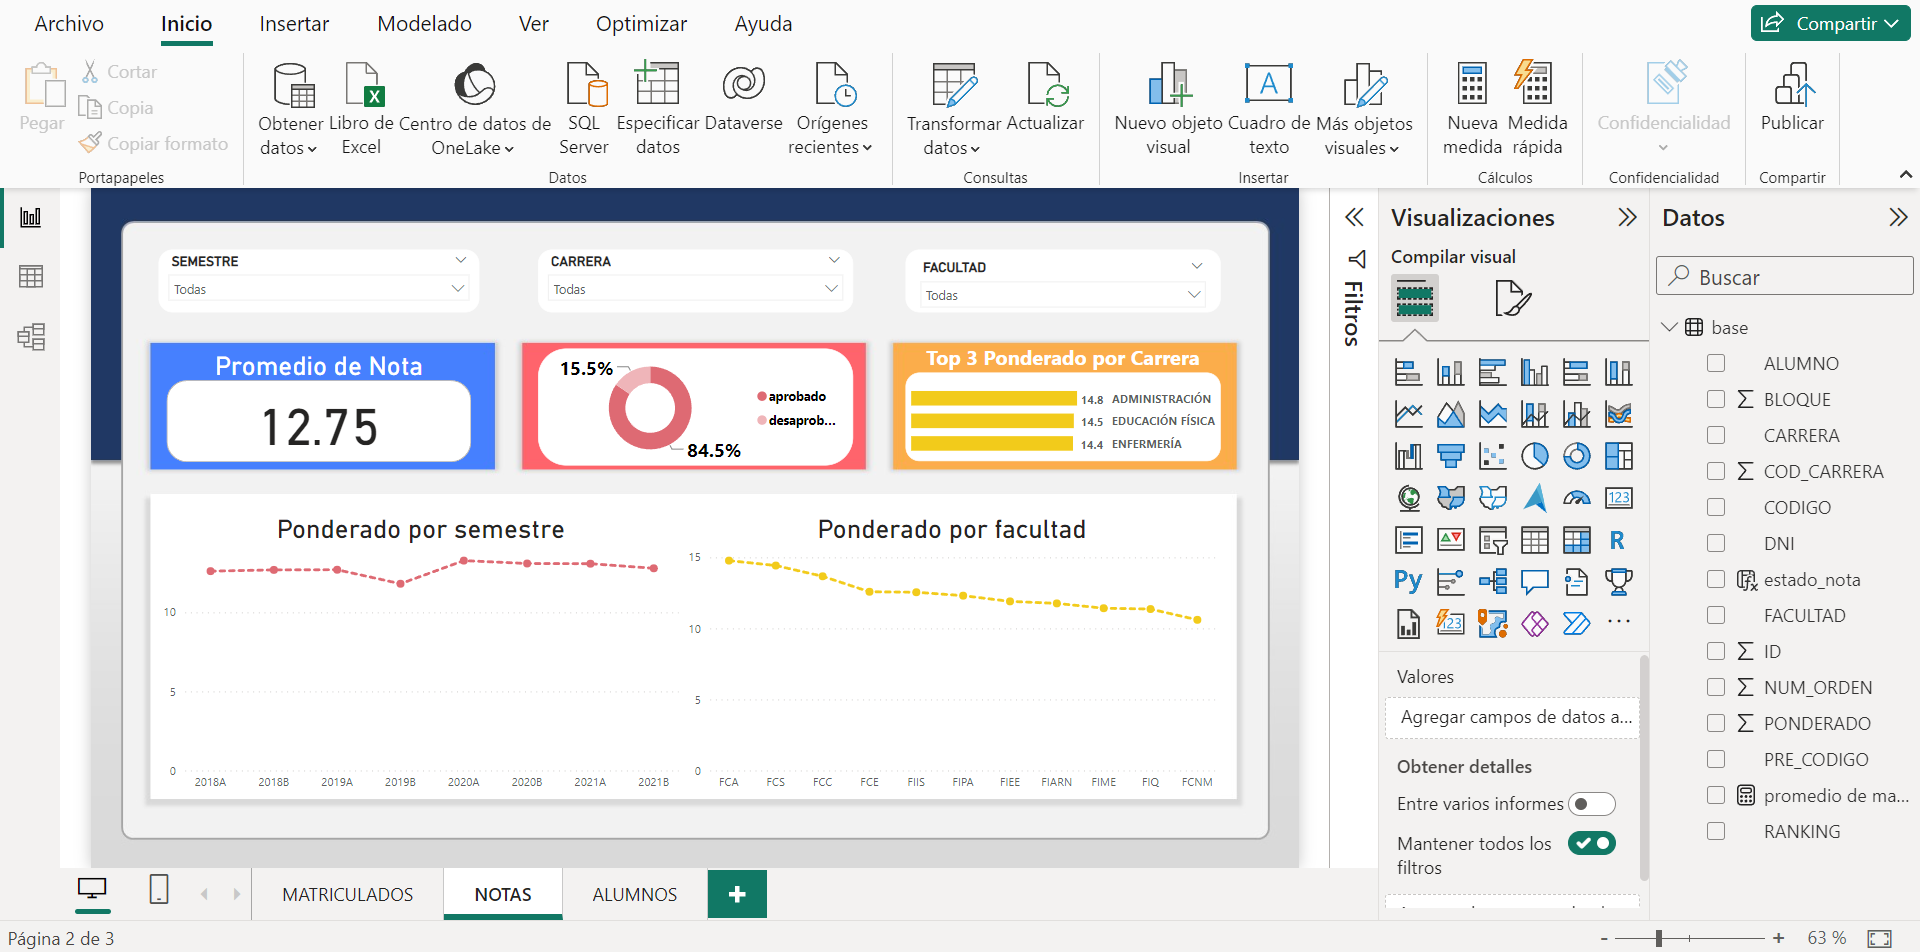

What the dashboard file says about the page in this screenshot:
{"tool":"powerbi","page":{"name":"NOTAS","canvas":[1280,720],"ordinal":1},"visuals":[{"type":"lineChart","title":"Ponderado por facultad","fields":{"Category":["base.FACULTAD"],"Y":["Avg(base.PONDERADO)"]},"box":[627.8,344.9,569,302],"z":0},{"type":"lineChart","title":"Ponderado por semestre","fields":{"Y":["Avg(base.PONDERADO)"],"Category":["base.RANKING"]},"box":[71.5,344.9,556.3,302],"z":1000},{"type":"cardVisual","title":"Promedio de Nota","fields":{"Data":["Avg(base.PONDERADO)"]},"box":[74.7,166.9,333.8,128.7],"z":2000},{"type":"donutChart","title":"Cantidad de aprobados","fields":{"Category":["base.estado_nota"],"Y":["CountNonNull(base.estado_nota)"]},"box":[473.6,170.1,333.8,124],"z":3000},{"type":"slicer","fields":{"Values":["base.RANKING"]},"box":[71.5,64.9,340.1,66.8],"z":4000},{"type":"slicer","fields":{"Values":["base.CARRERA"]},"box":[473.6,65.2,333.8,66.8],"z":5000},{"type":"slicer","fields":{"Values":["base.FACULTAD"]},"box":[863,65.2,333.8,66.8],"z":6000},{"type":"clusteredBarChart","title":"Top 3 Matricula por Carrera","fields":{"Category":["base.CARRERA"],"Y":["Avg(base.PONDERADO)"]},"box":[863,196.1,333.8,93.8],"z":7000},{"type":"textbox","box":[826.5,159.5,406.9,42.9],"z":8000}]}

Visuals, with their boxes on the page's 1280x720 design canvas (x1, y1, x2, y2). These are canvas units, not pixel positions in the 1920x952 screenshot, which may show the page scaled, cropped or inside an application window:
"Ponderado por facultad" lineChart: locate(628, 345, 1197, 647)
"Ponderado por semestre" lineChart: locate(72, 345, 628, 647)
"Promedio de Nota" cardVisual: locate(75, 167, 408, 296)
"Cantidad de aprobados" donutChart: locate(474, 170, 807, 294)
slicer - base.RANKING: locate(72, 65, 412, 132)
slicer - base.CARRERA: locate(474, 65, 807, 132)
slicer - base.FACULTAD: locate(863, 65, 1197, 132)
"Top 3 Matricula por Carrera" clusteredBarChart: locate(863, 196, 1197, 290)
textbox: locate(826, 160, 1233, 202)
